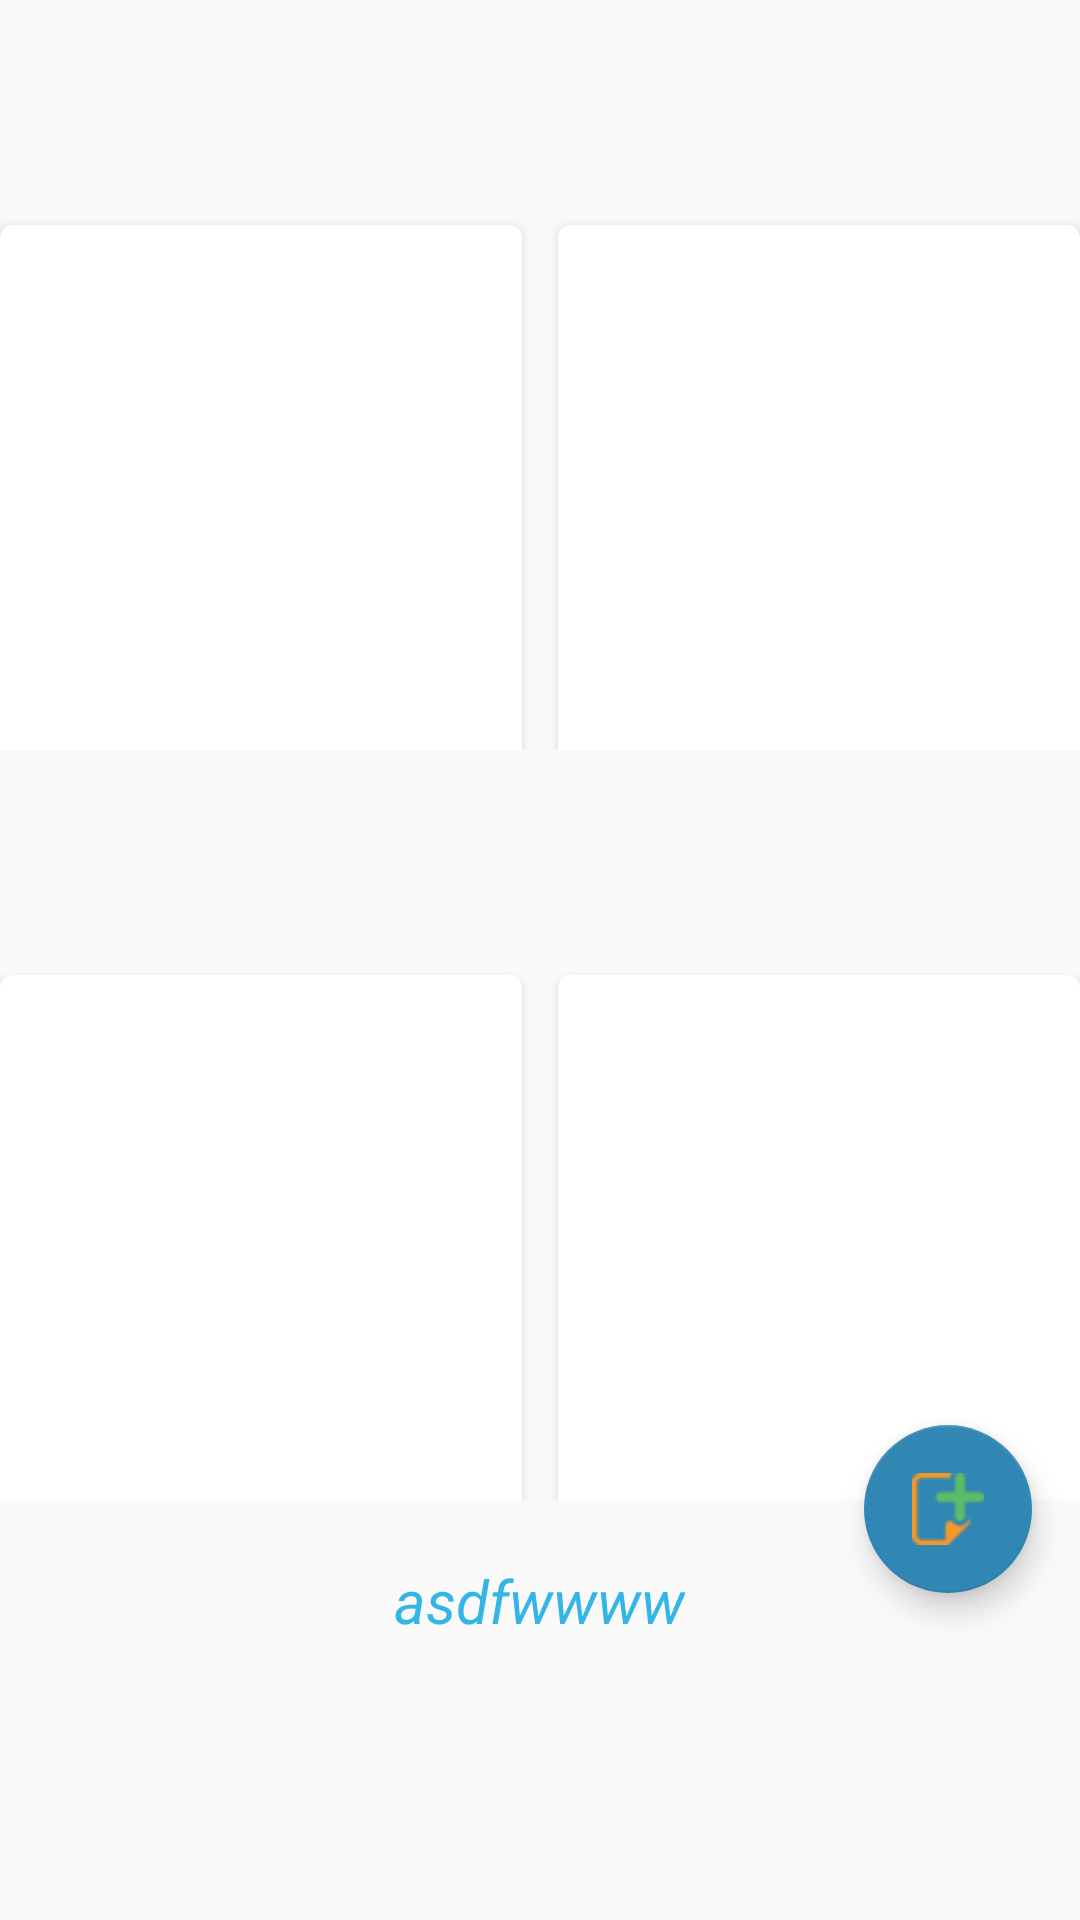

Icon click points for this 1080w x 1920h phone screenshot, format (x,y):
add: (948,1509)
